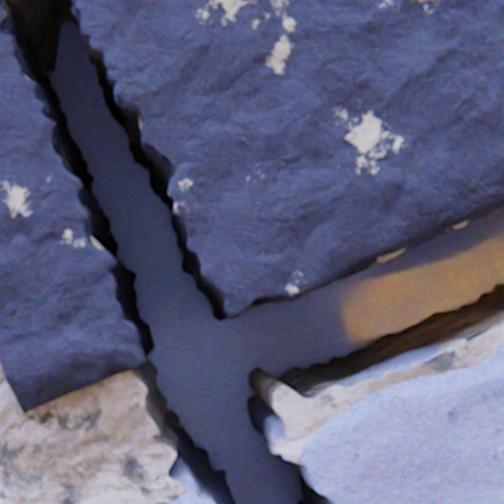broken_brick: (75, 0, 503, 315), (0, 8, 145, 412), (279, 343, 503, 503), (167, 489, 215, 503)
crack: (0, 0, 503, 503)
